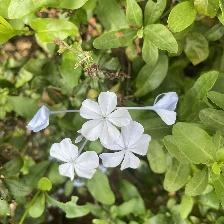chitrak: (78, 88, 135, 148), (102, 121, 153, 170), (49, 143, 101, 179)
